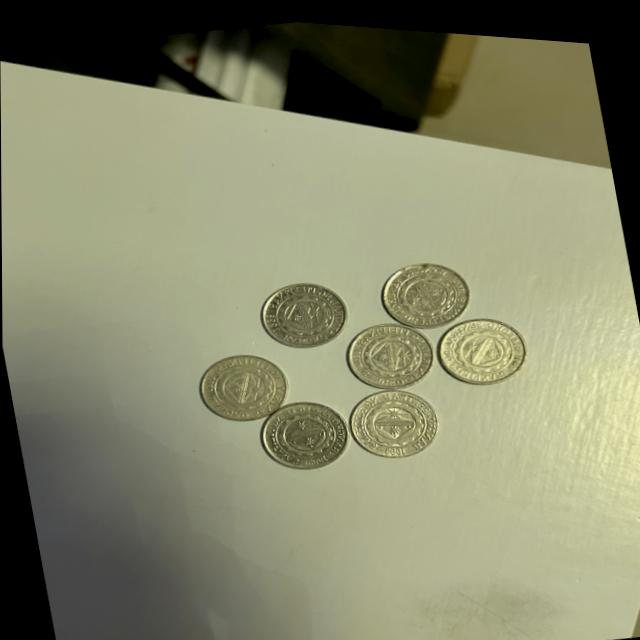1_Old_Back: (201, 350, 282, 417), (386, 255, 466, 322), (444, 309, 521, 377), (351, 314, 426, 381), (355, 387, 432, 452), (266, 277, 340, 344), (266, 398, 340, 464)
